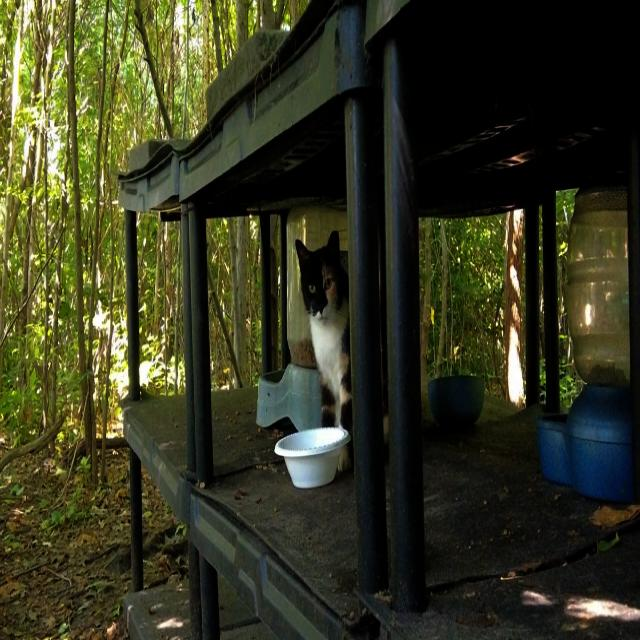cat: (296, 232, 352, 432), (338, 445, 351, 471)
